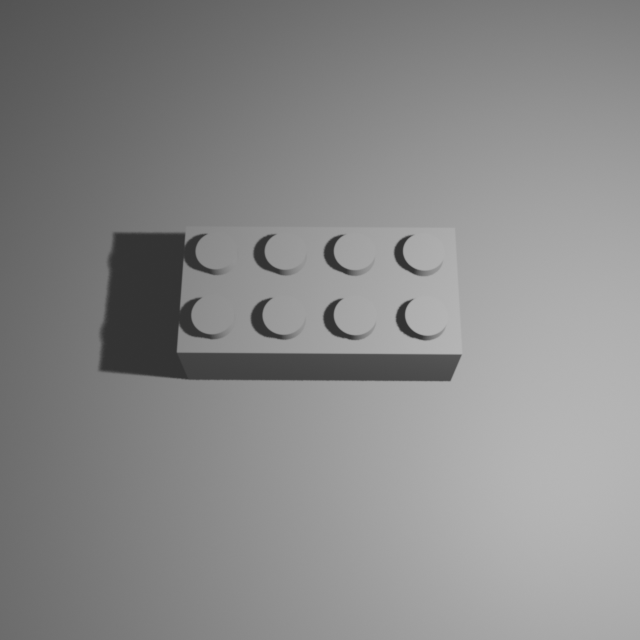lego_2x4: (175, 220, 464, 381)
